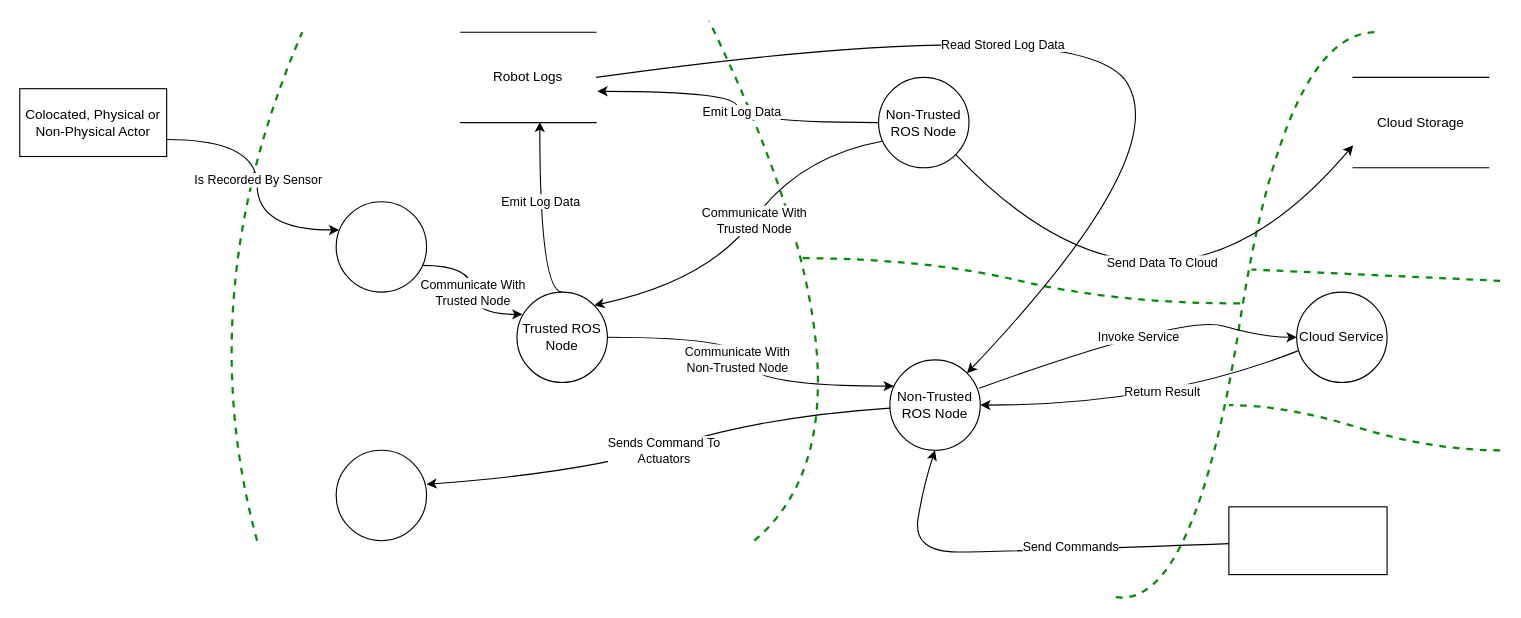
The diagram is 1521 pixels wide and 618 high, and some of its shapes have lost their labels. Each missing label, with the box of its shape:
Actuator: (335, 449, 427, 541)
Non-colocated, Physical or Non-Physical Actor: (1228, 506, 1387, 575)
Sensor: (335, 201, 427, 292)
